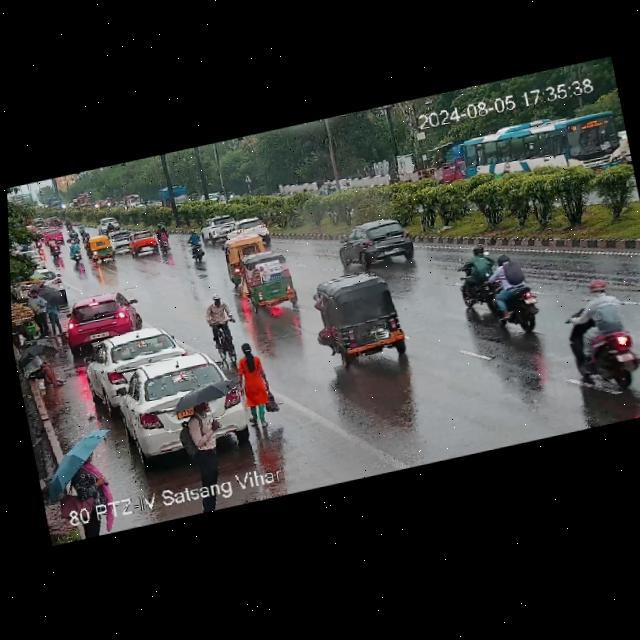bus: (458, 99, 624, 182)
car: (114, 346, 256, 468), (307, 259, 430, 381), (77, 317, 205, 418), (330, 203, 426, 274), (57, 288, 149, 353), (235, 246, 312, 312), (215, 226, 279, 285), (14, 268, 71, 316), (229, 213, 276, 250), (199, 212, 244, 245), (124, 225, 164, 261), (85, 230, 122, 268), (88, 209, 127, 236), (41, 220, 71, 249), (108, 223, 135, 255), (20, 245, 49, 273), (439, 156, 467, 182), (316, 176, 349, 198), (98, 197, 112, 211)
motorcycle: (551, 265, 640, 410), (477, 247, 549, 345), (200, 282, 257, 363), (450, 232, 505, 314), (180, 223, 218, 266), (147, 215, 179, 263), (67, 237, 85, 265), (45, 235, 66, 259), (63, 217, 80, 235), (74, 219, 88, 240), (321, 180, 338, 194), (68, 227, 80, 242), (226, 189, 239, 200), (214, 195, 224, 205)
person: (169, 375, 255, 488), (39, 420, 135, 512), (230, 331, 287, 430), (15, 336, 66, 400), (25, 286, 57, 338), (36, 282, 67, 334)
truck: (160, 184, 193, 209), (71, 188, 98, 212), (123, 190, 145, 211)
